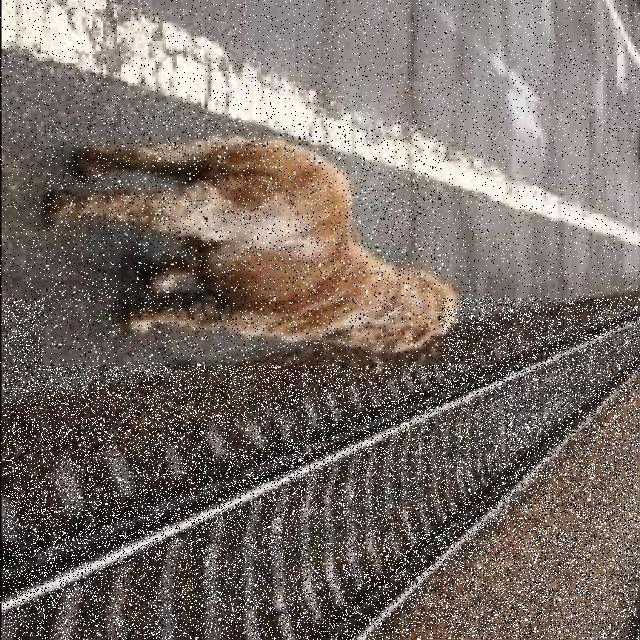danger: (44, 120, 442, 366)
rail: (3, 298, 640, 640)
